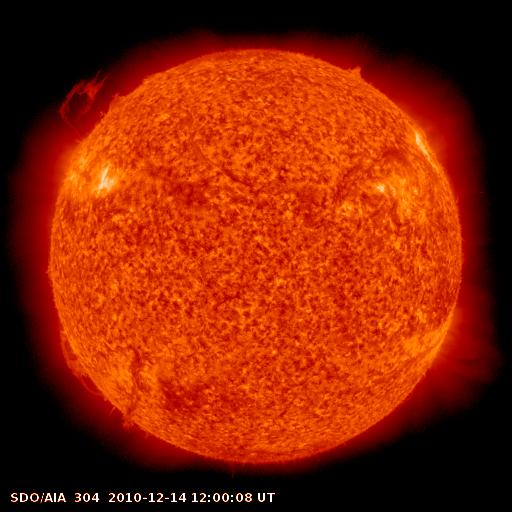prominence: (55, 65, 146, 143), (54, 320, 114, 401), (107, 405, 162, 449), (332, 51, 377, 89)
